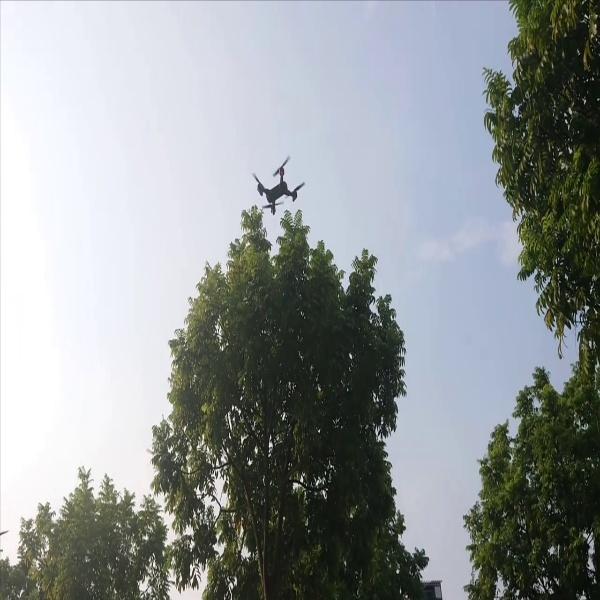drone: (245, 155, 306, 216)
